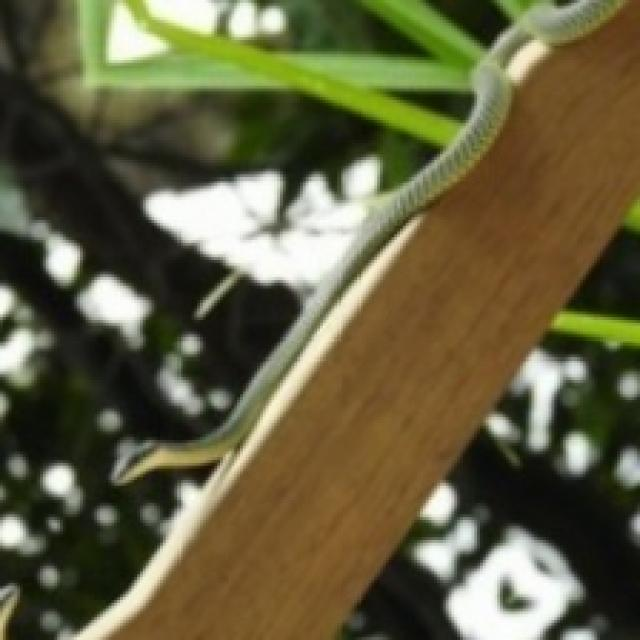paradise tree snake: (77, 0, 637, 637), (120, 3, 637, 637), (0, 0, 431, 637), (351, 349, 637, 637)
